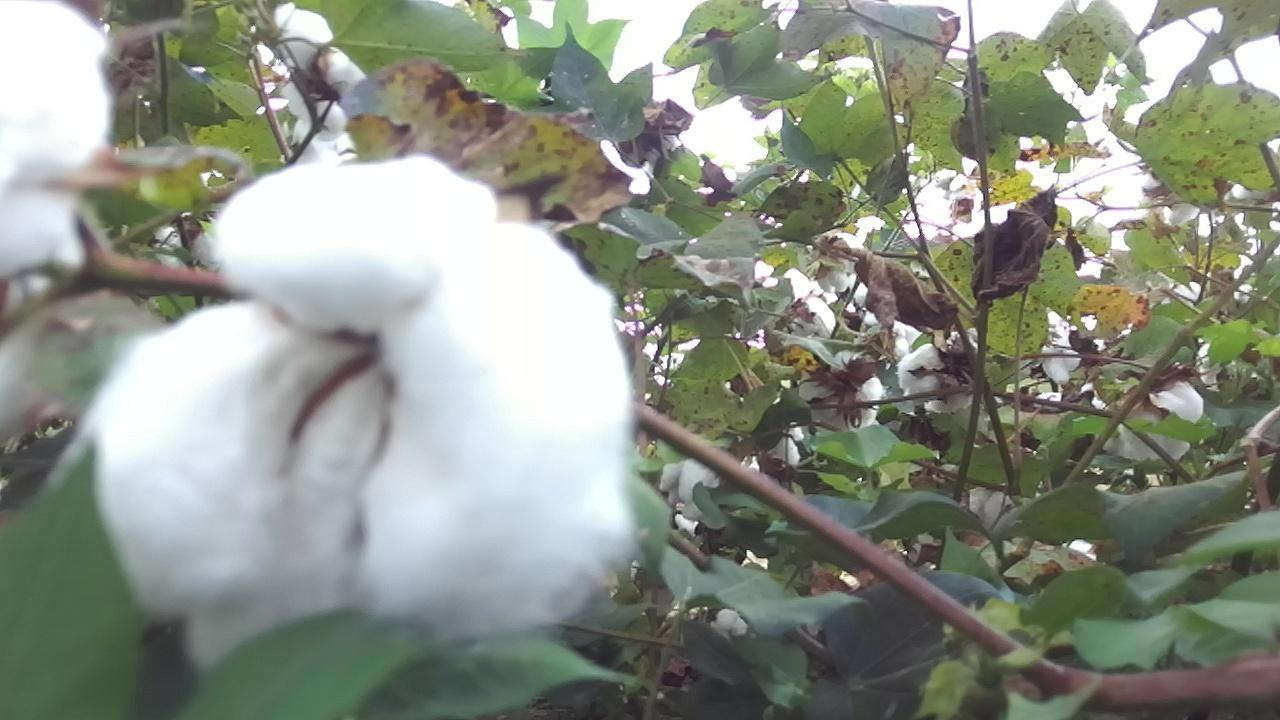cotton_ready: (92, 152, 634, 678), (0, 0, 110, 279), (1113, 380, 1205, 465), (898, 332, 984, 411)
